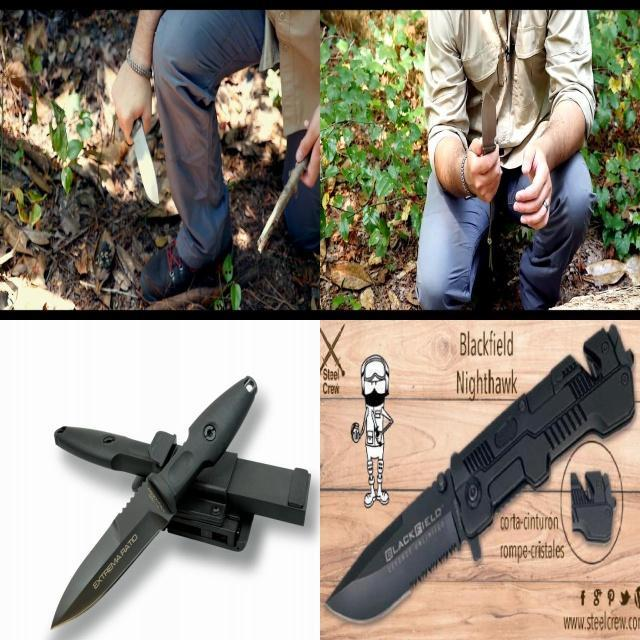-: (319, 325, 638, 622), (47, 472, 172, 634), (109, 86, 161, 209), (471, 87, 501, 182)
